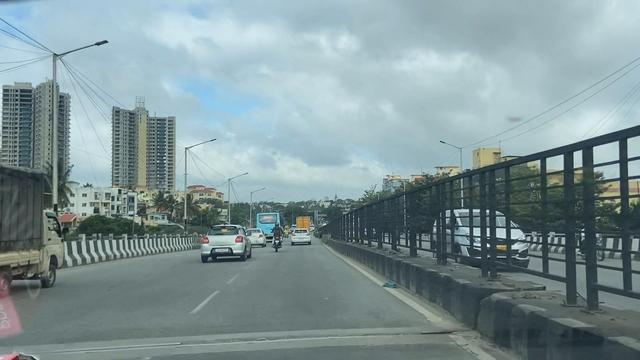HMV: (0, 158, 92, 305), (253, 203, 288, 253)
LMV: (200, 211, 253, 268), (269, 208, 296, 262), (288, 220, 320, 252), (246, 228, 270, 249)
